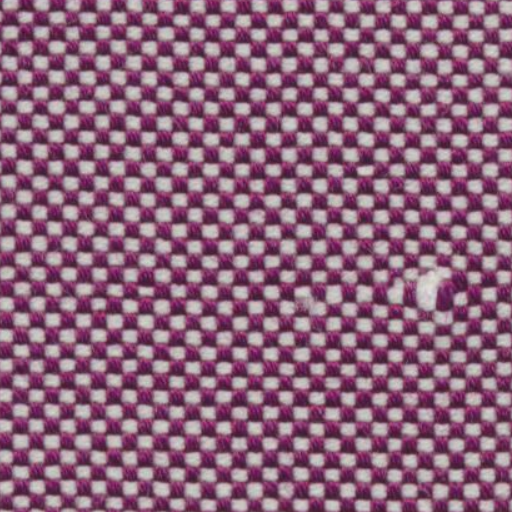DaiSha: (322, 260, 492, 326)
